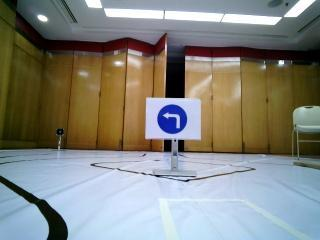left: (150, 98, 196, 139)
